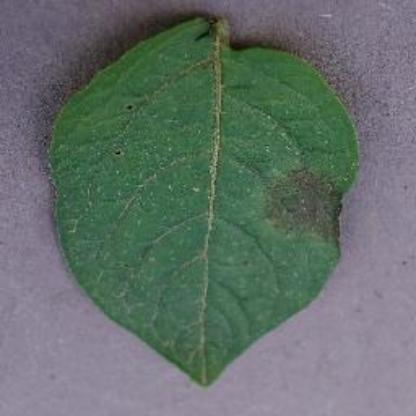Late-Blight: (44, 9, 360, 387)
